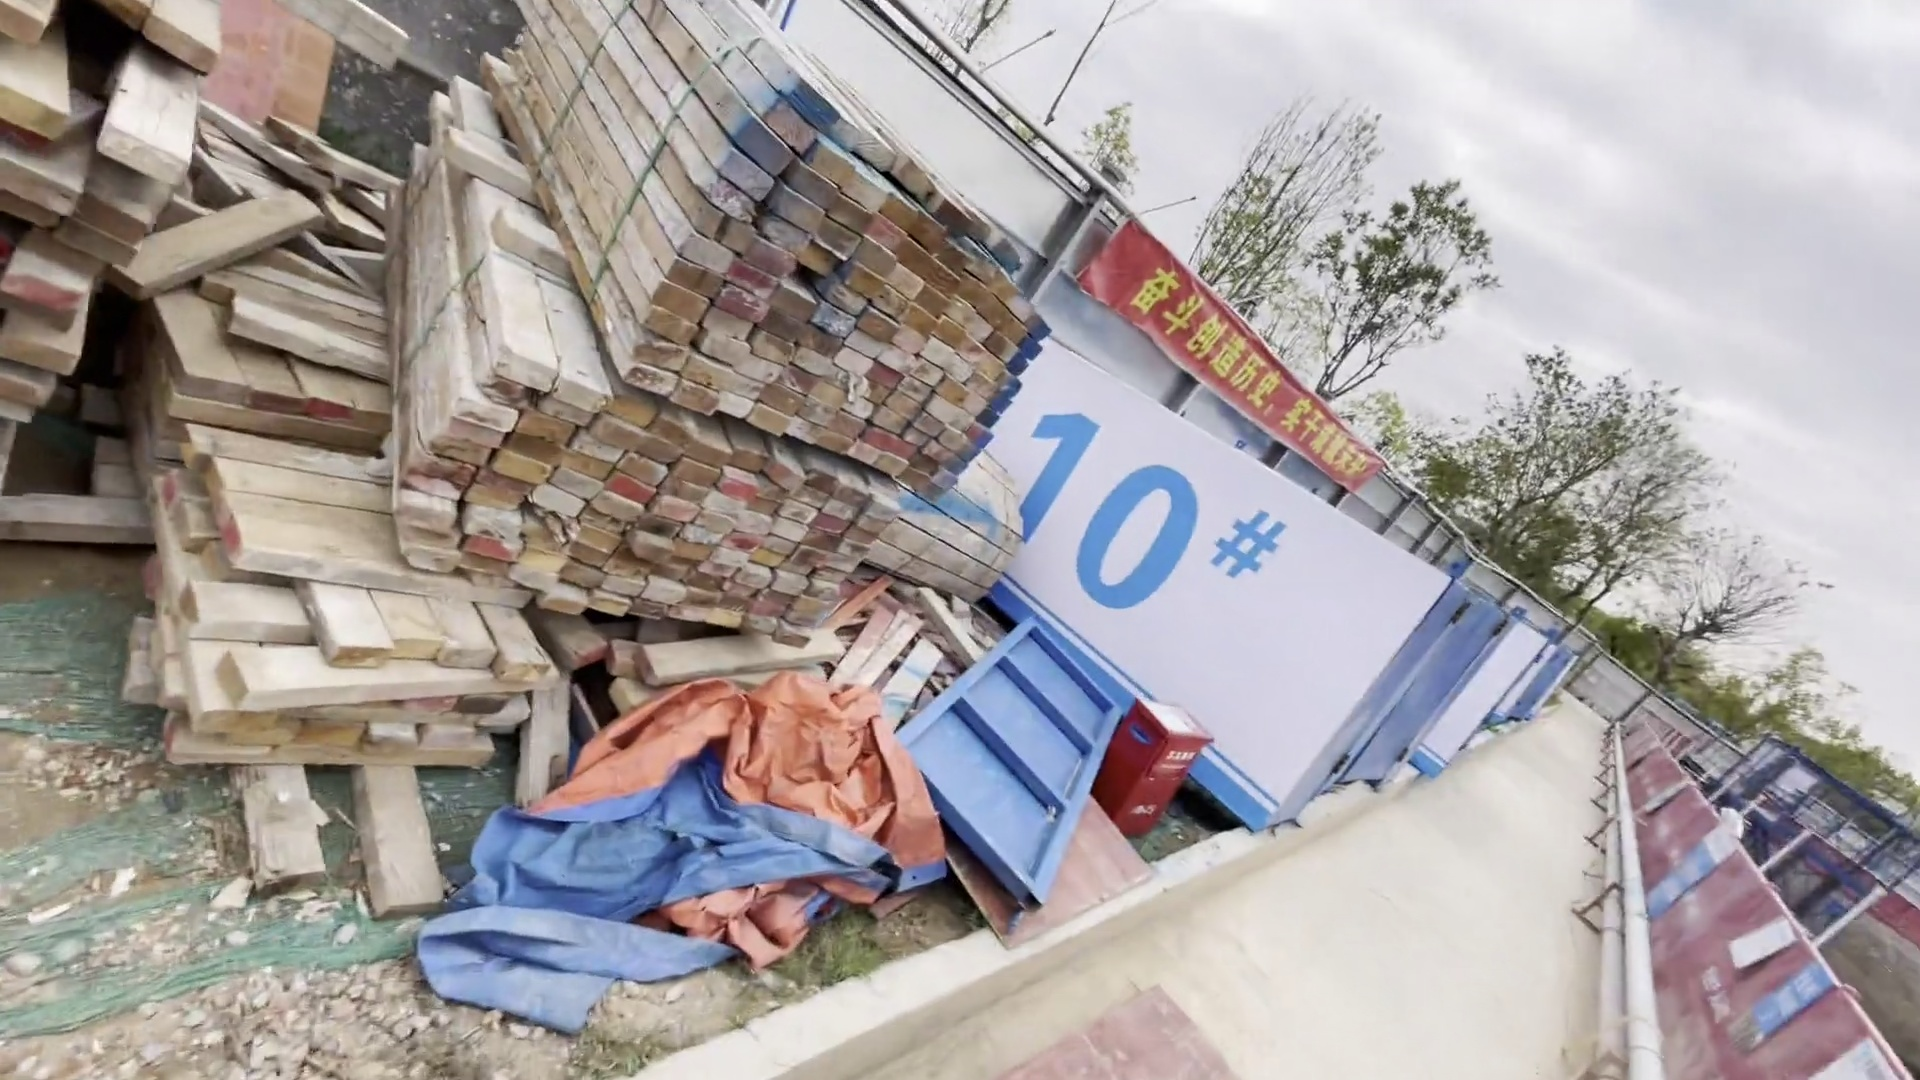slogan: (1069, 169, 1418, 512)
wood: (355, 5, 1048, 640)
